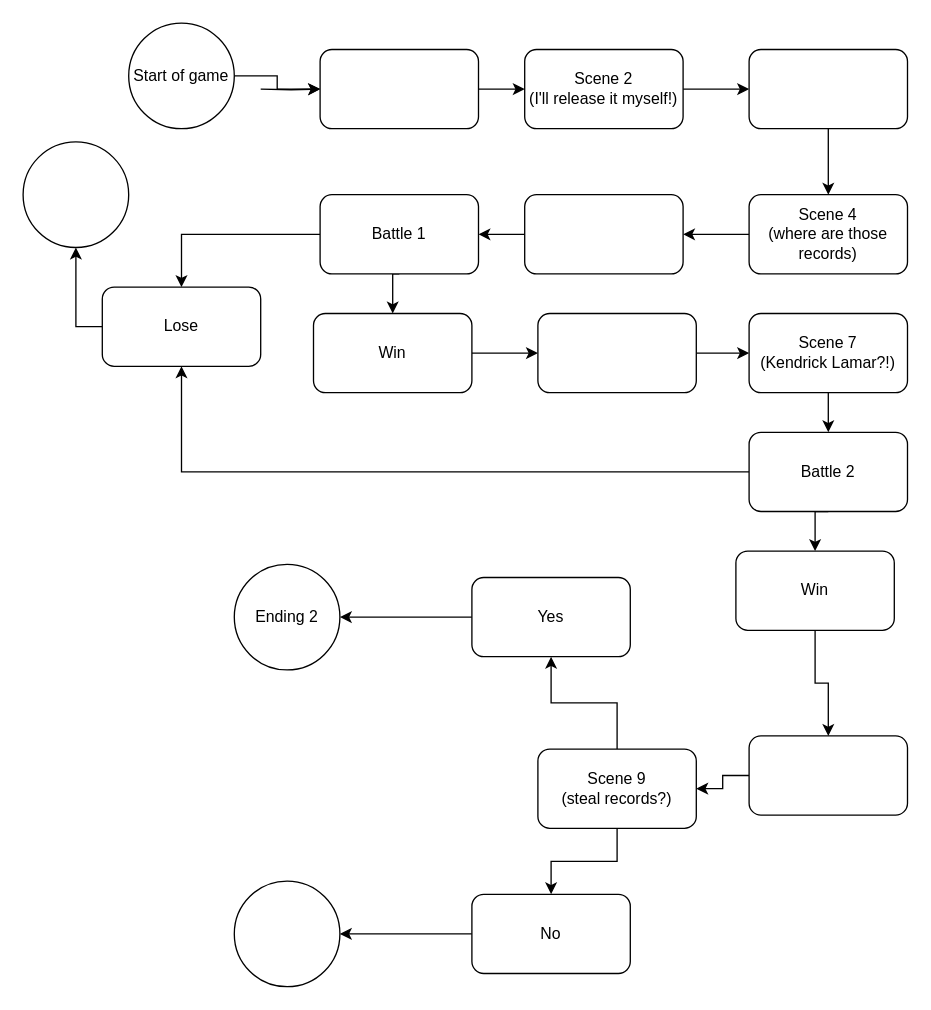
Some shapes in this 931 by 1010 pixel diagram are drawn without their labels. Here are the shapes that lost their labels. From the top down, the box of each, then its label:
(319, 48, 478, 129): Scene 1 (too bad it's unreleased)
(748, 48, 908, 129): Scene 3 (I'll just have to steal it)
(22, 141, 129, 248): Ending 1
(523, 193, 683, 274): Scene 5 (a worker!)
(537, 312, 696, 393): Scene 6 (oh yeah! I win)
(748, 735, 908, 815): Scene 8 (I did it!)
(233, 880, 340, 987): Ending 3
